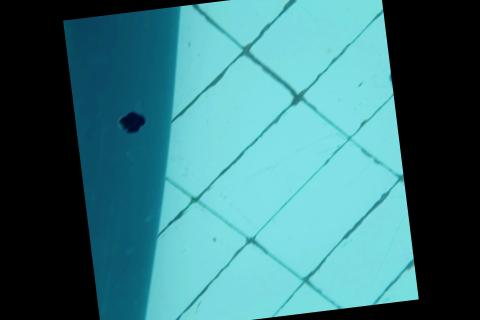kebocoran: (113, 109, 148, 136)
